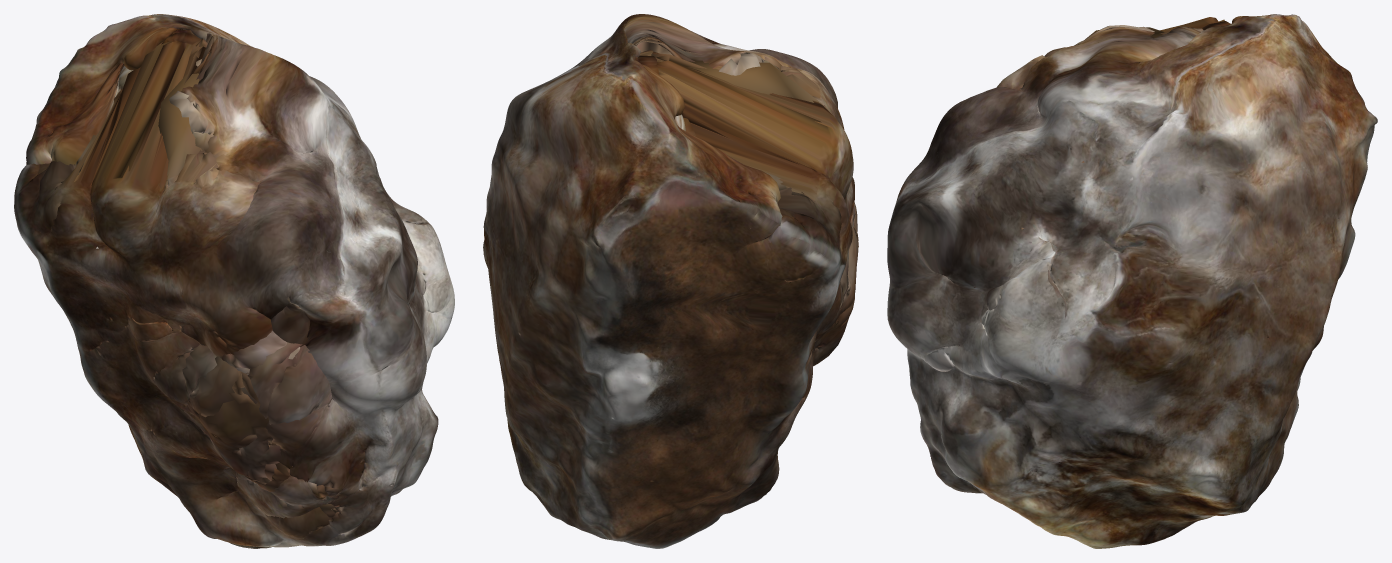
Rendered from BrownRock2.fbx.
3 renders of one model, left to right at view 1: azimuth 30°, elevation 25°; view 2: azimuth 150°, elevation 25°; view 3: azimuth 270°, elevation 25°, orthographic. The views are drawn at different scales.
Parts seen in each view (by area): view 1: rock1.001; view 2: rock1.001; view 3: rock1.001.
Boxes of the visible parts, x1,y1,x2,y2 form: rock1.001: [14, 14, 454, 548]; rock1.001: [483, 14, 858, 548]; rock1.001: [887, 14, 1377, 548].
Size of the model in its own units: 115 by 152 by 134.
1 material, 1 textured.
